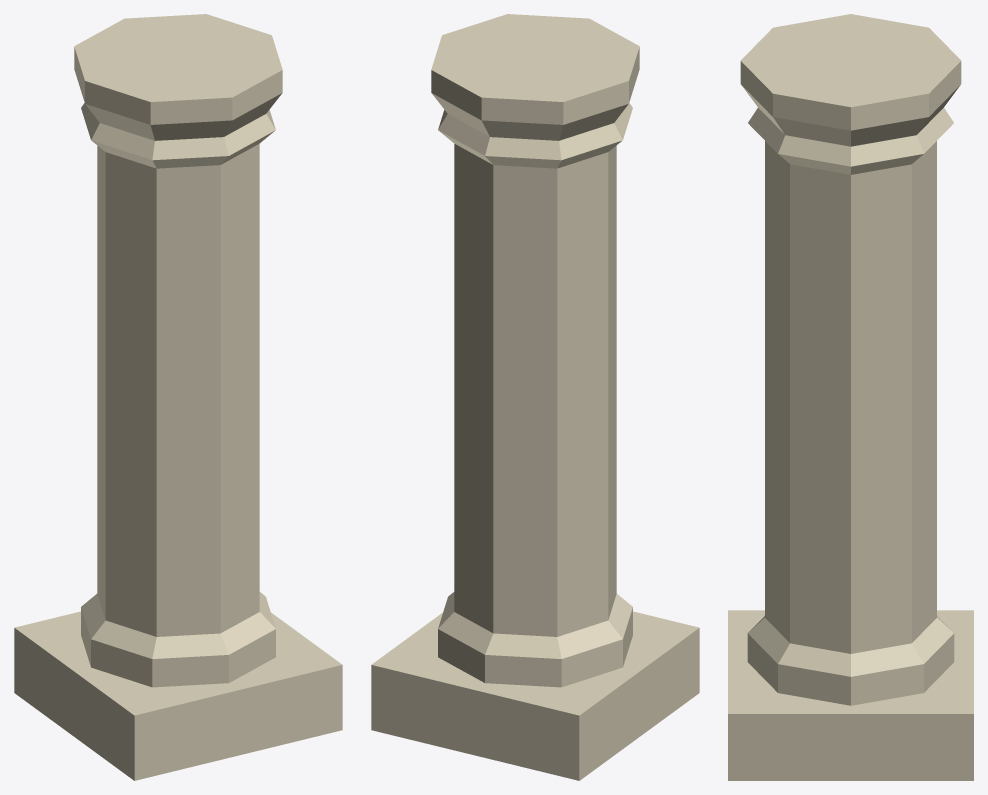
Rendered from roman_column_short.fbx.
The picture shows the model from 3 angles, left to right: view 1: azimuth 30°, elevation 25°; view 2: azimuth 150°, elevation 25°; view 3: azimuth 270°, elevation 25°; orthographic projection. The views are drawn at different scales.
Parts seen in each view (by area): view 1: Column; view 2: Column; view 3: Column.
Boxes of the visible parts, x1,y1,x2,y2 form: Column: [14, 14, 342, 780]; Column: [371, 14, 699, 780]; Column: [728, 14, 973, 780].
Size of the model in its own units: 1 by 3 by 1.
